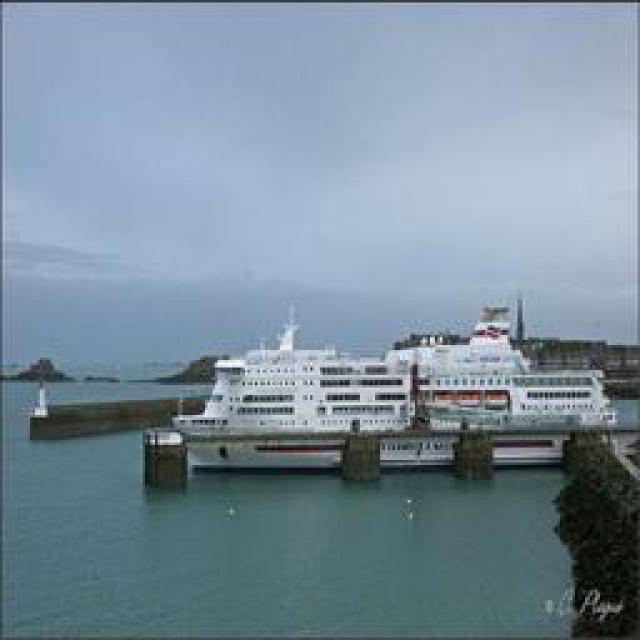Ship: (170, 296, 615, 464)
